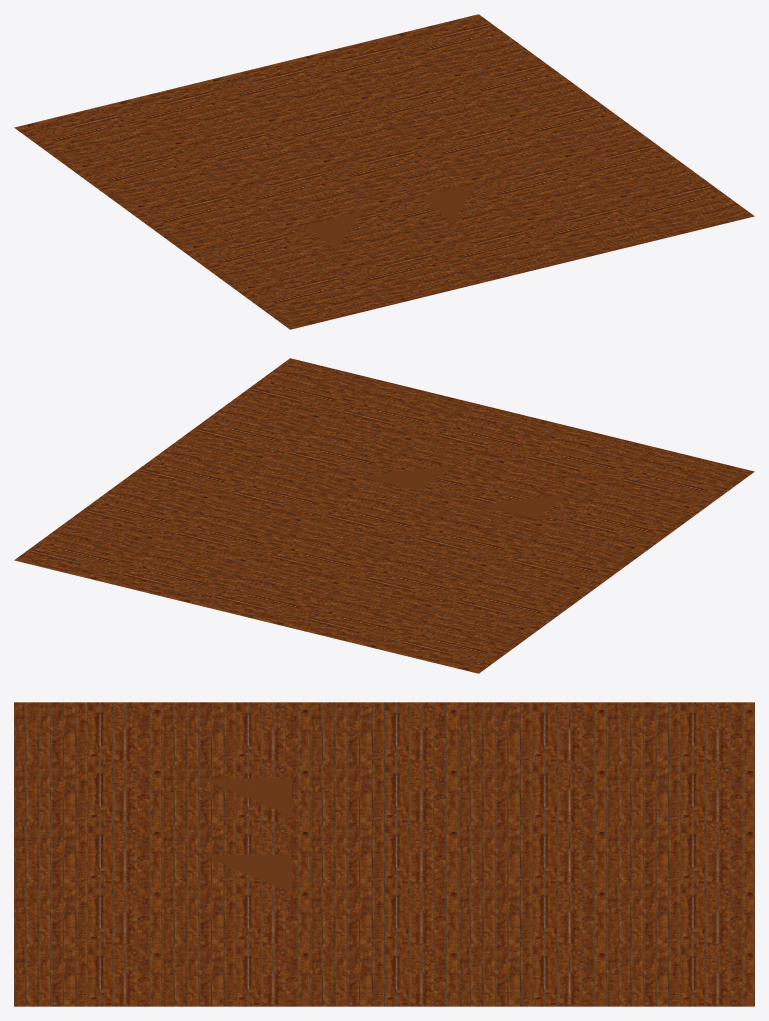
File: woodfloor-repeated.glb
The picture shows the model from 3 angles, top to bottom: view 1: azimuth 30°, elevation 25°; view 2: azimuth 150°, elevation 25°; view 3: azimuth 270°, elevation 25°; orthographic projection. The views are drawn at different scales.
Visible parts, largest first — view 1: Plane; view 2: Plane; view 3: Plane.
Part boxes in pixels (x1,y1,x2,y2): Plane: (14, 14, 754, 329); Plane: (14, 358, 754, 673); Plane: (14, 702, 754, 1006).
Size of the model in its own units: 23.5 by 0 by 24.19.
Materials: 1 (1 with a texture image).
